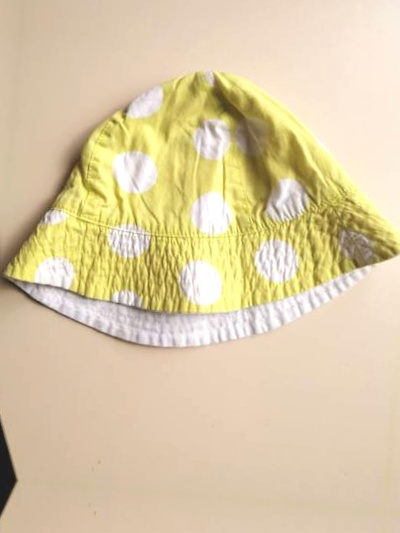Hat: (6, 62, 396, 349), (0, 29, 8, 316)
